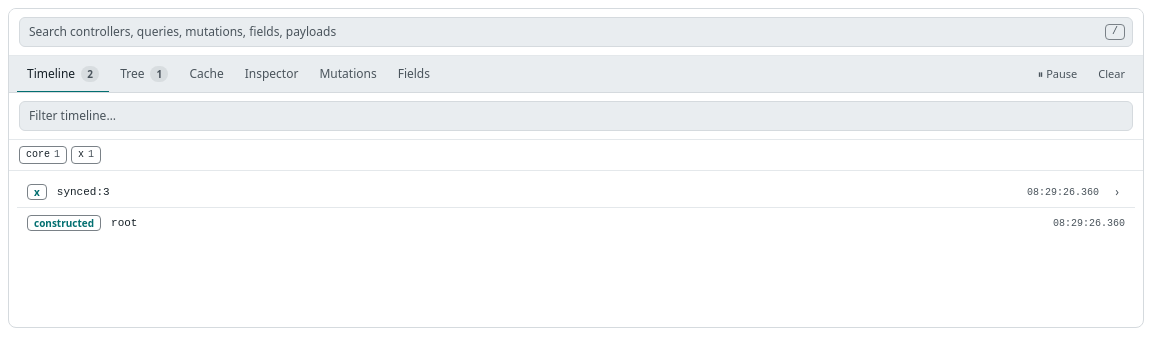
plugin lanes — T8.8 › an event a plugin publishes through host.debug shows on its own lane and can be hidden
The image size is (1152, 345).
Expected: the text with class "olas-devtools-target" reads "synced:3", [57,186,110,198]
Expected: the button "core 1" is shown, [19,146,67,164]
Click the button "x 1": (86, 155) [71,146,101,164]
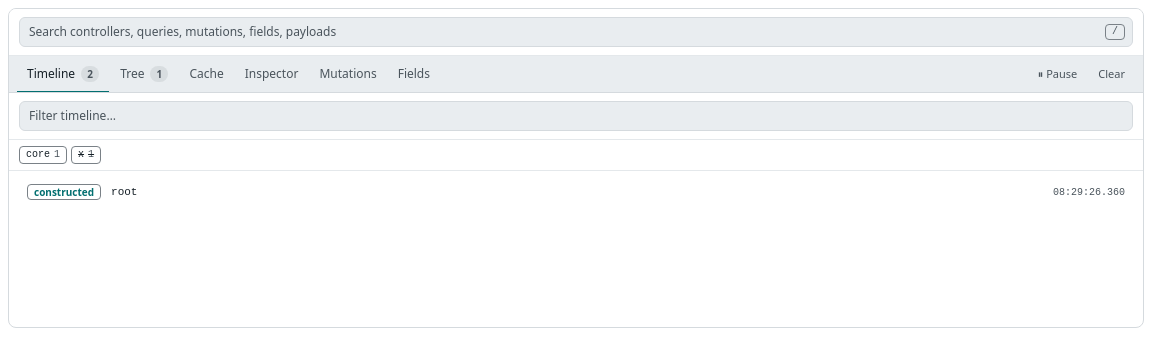
Expected: the panel shows "root", [111,186,137,198]
Now the button "x 1" is not pressed
Click the button "x 1": (86, 155) [71,146,101,164]
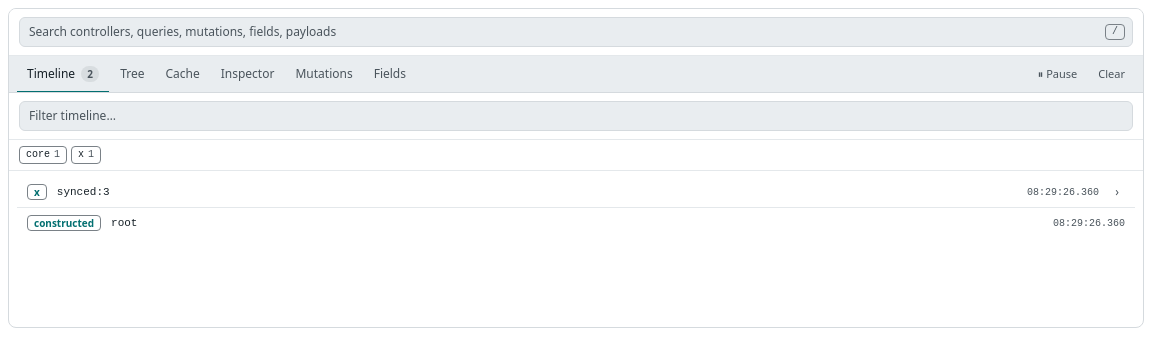
Now the text "x" is shown, box [27,184,47,200]
